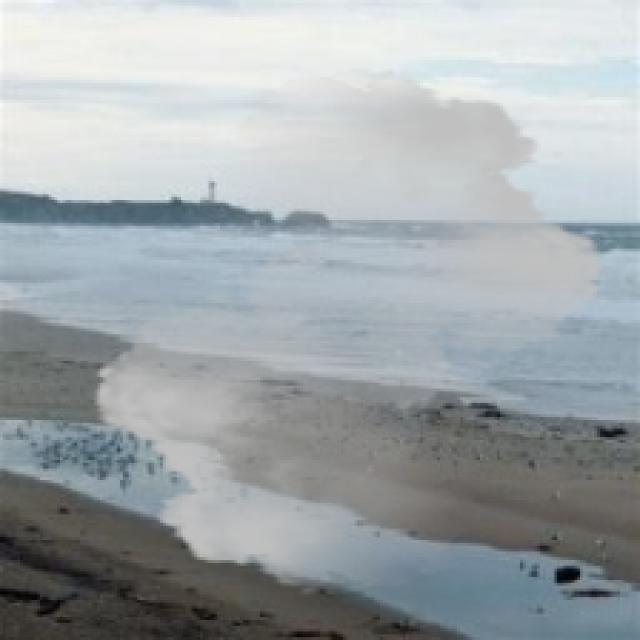smoke: (77, 69, 620, 594)
